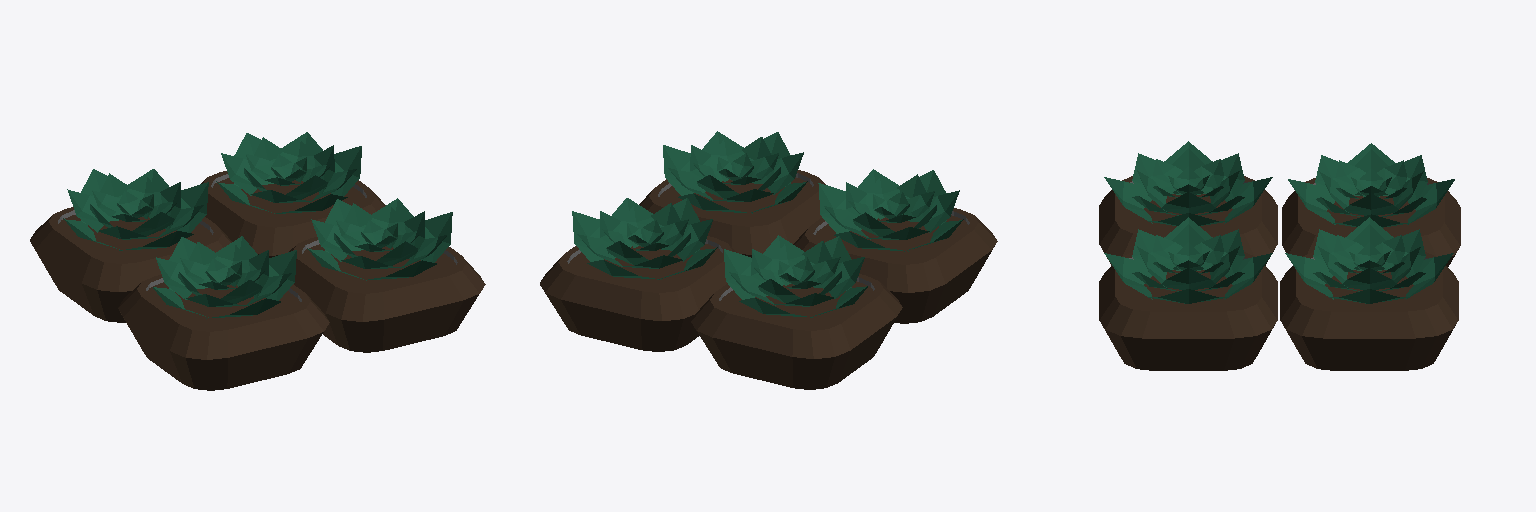
The model's file is planta2.obj.
3 views of the same model, side by side, from view 1: azimuth 30°, elevation 25°; view 2: azimuth 150°, elevation 25°; view 3: azimuth 270°, elevation 25° (orthographic).
Parts seen in each view (by area): view 1: Mesh1; view 2: Mesh1; view 3: Mesh1.
Part boxes in pixels (bbox=[...]): Mesh1: bbox=[30, 132, 485, 390]; Mesh1: bbox=[540, 131, 997, 389]; Mesh1: bbox=[1099, 141, 1460, 370].
Size of the model in its own units: 8.01 by 2.38 by 8.08.